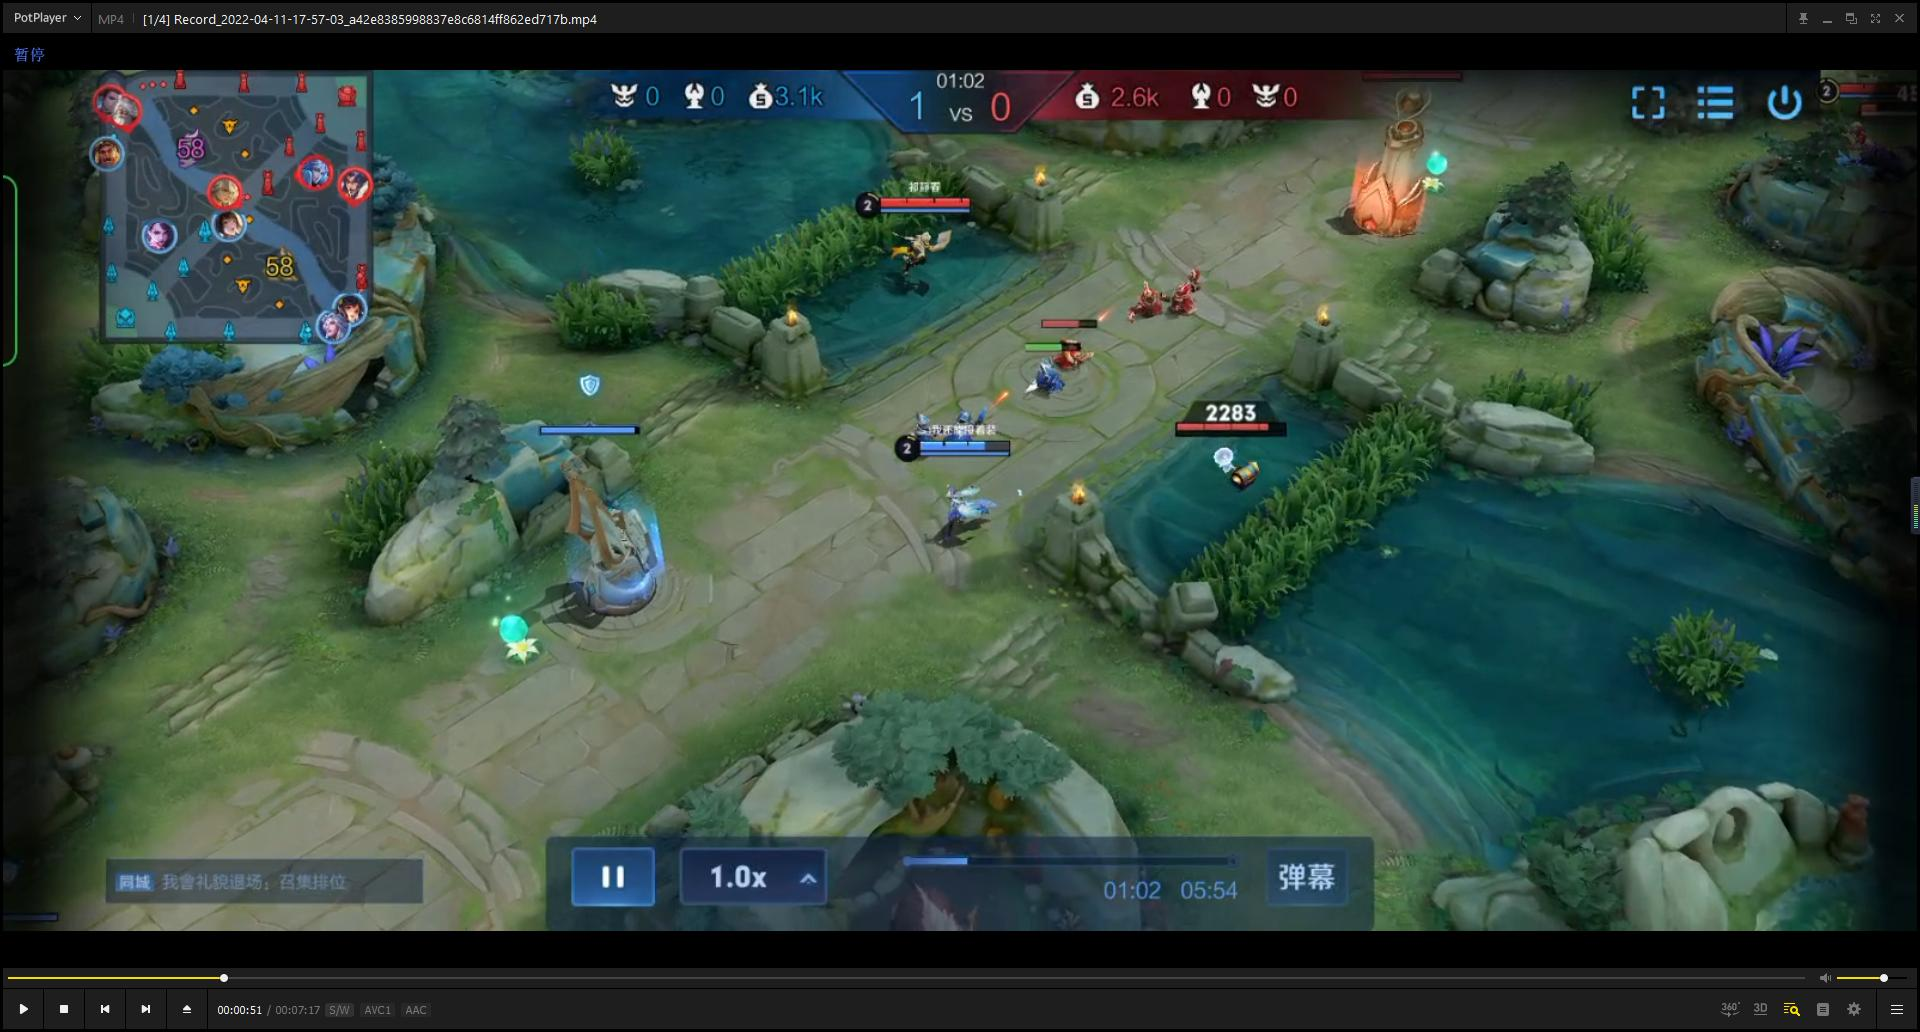Hero: (906, 475, 1018, 557), (868, 221, 964, 294)
Solider: (1024, 304, 1118, 380), (877, 391, 958, 461), (1005, 343, 1092, 407), (1105, 272, 1180, 336), (1155, 264, 1212, 341), (1164, 240, 1229, 296), (956, 385, 1005, 450)
Spirit: (1158, 397, 1295, 508)
Tower: (503, 391, 703, 662), (1315, 64, 1469, 247)
